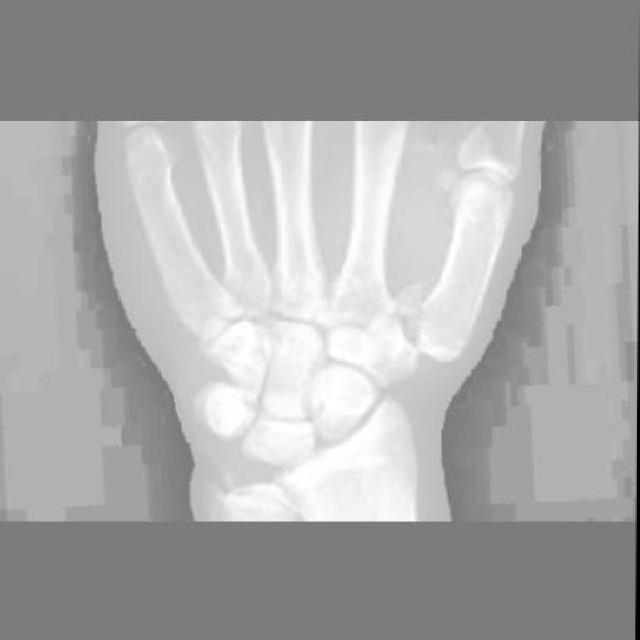Fracture: (391, 280, 439, 349)
